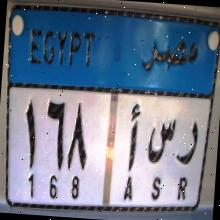1: (18, 95, 42, 174)
6: (40, 97, 70, 172)
8: (66, 100, 93, 172)
alif: (122, 98, 144, 174)
raa: (175, 116, 200, 174)
seen: (144, 109, 176, 168)
